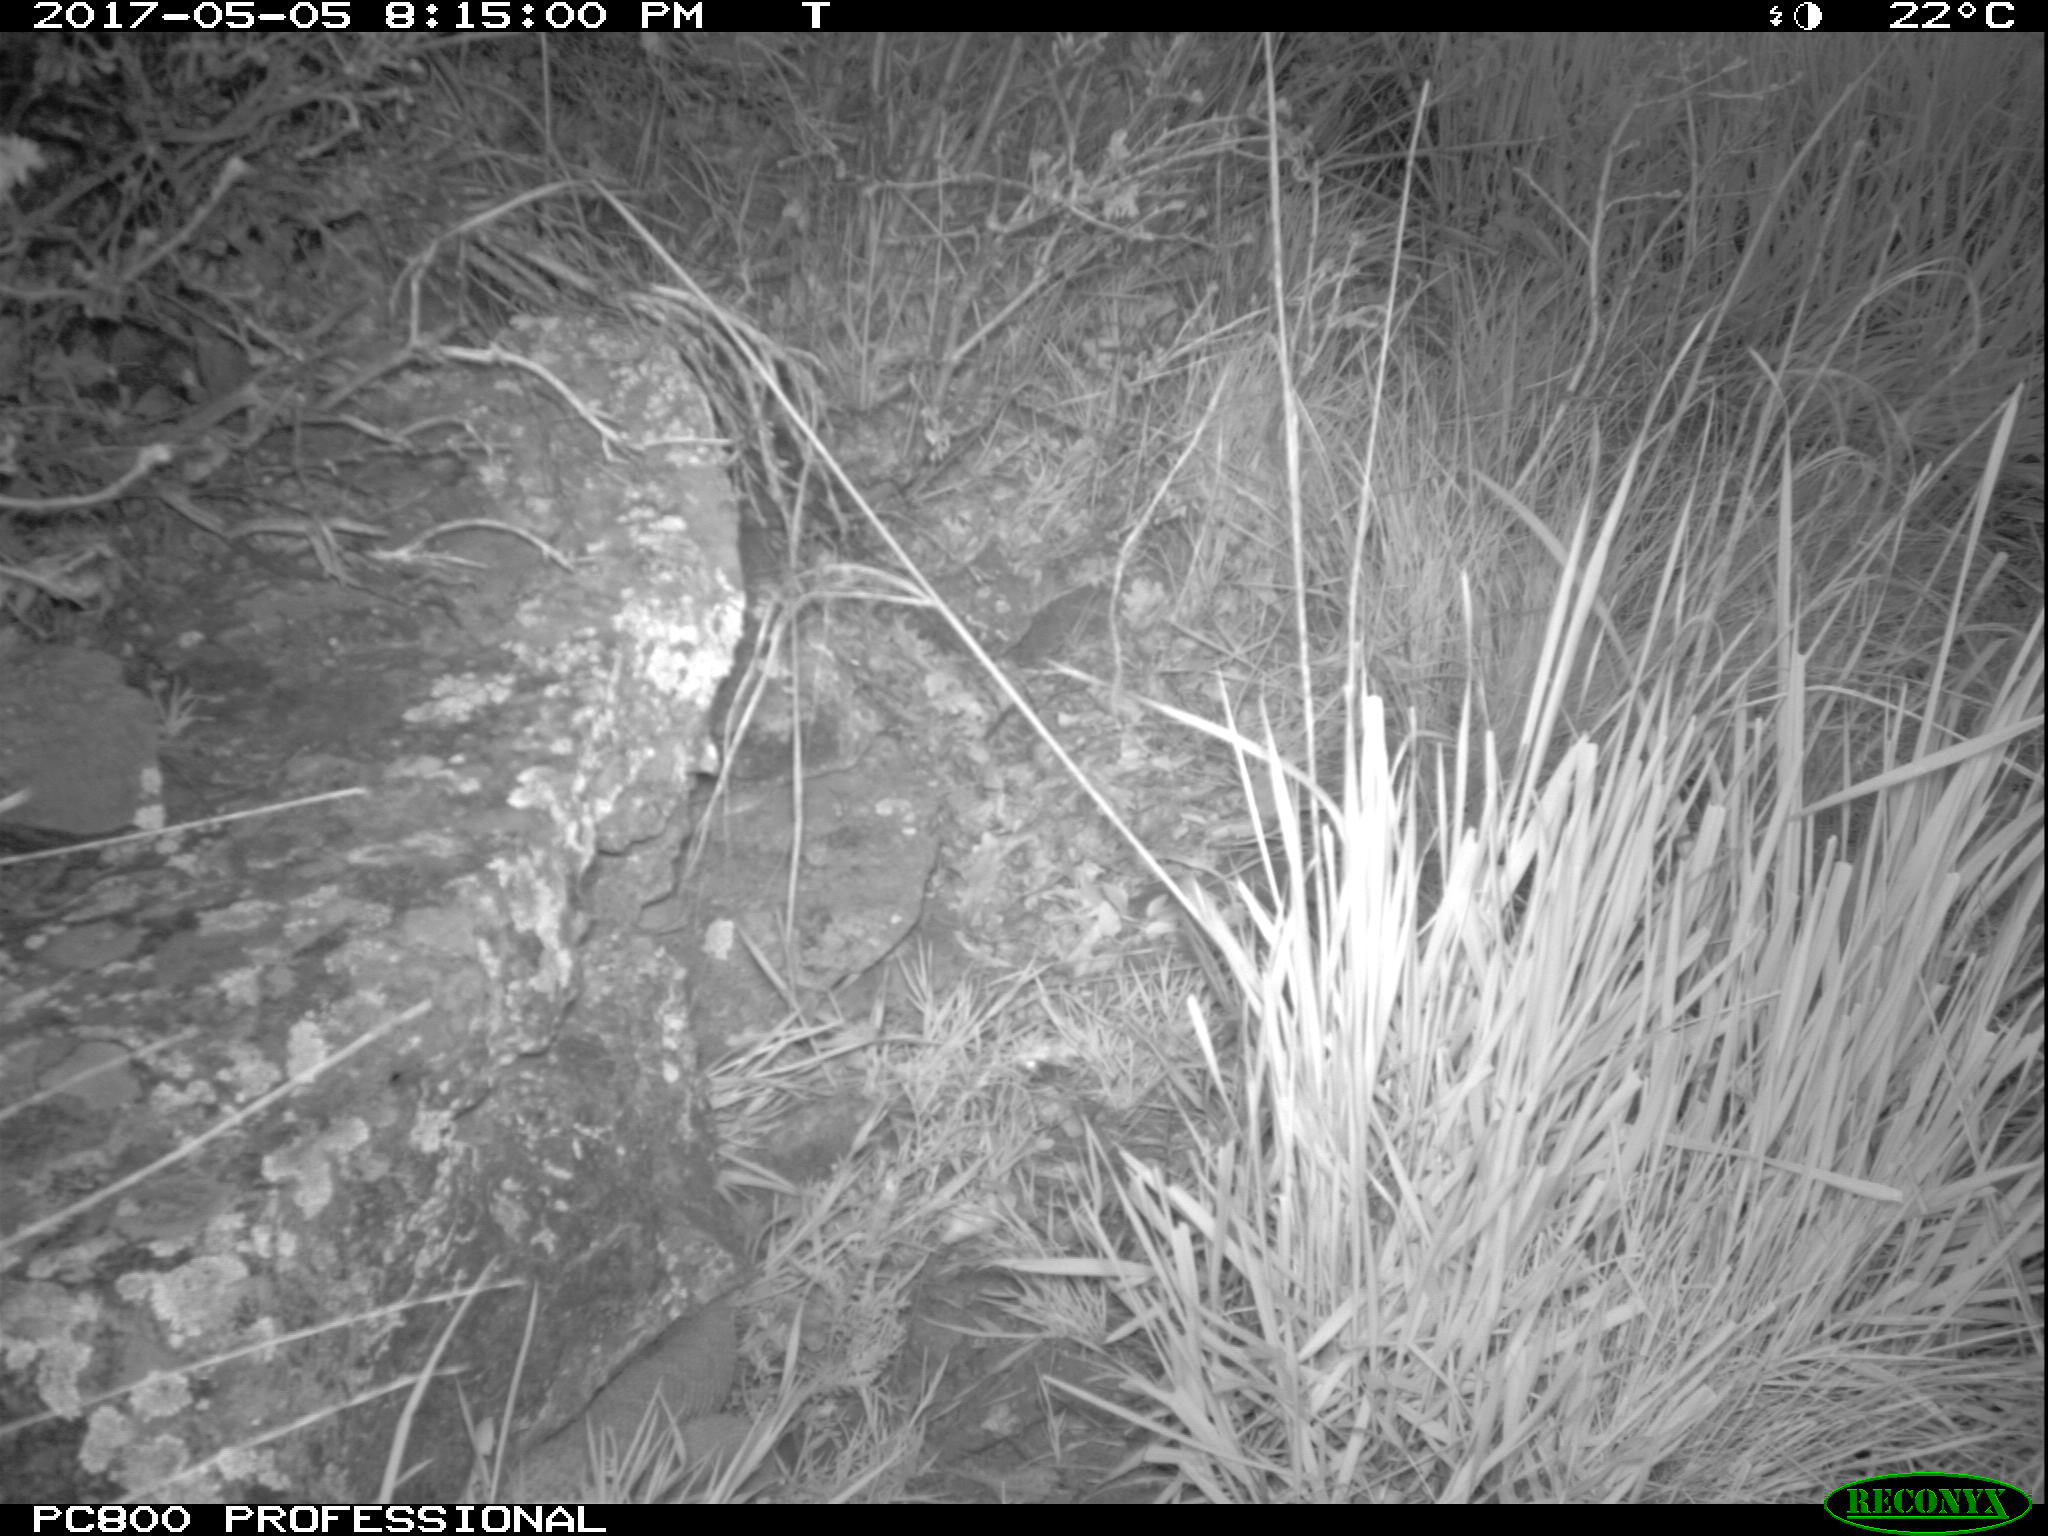snake: (497, 1300, 768, 1504)
